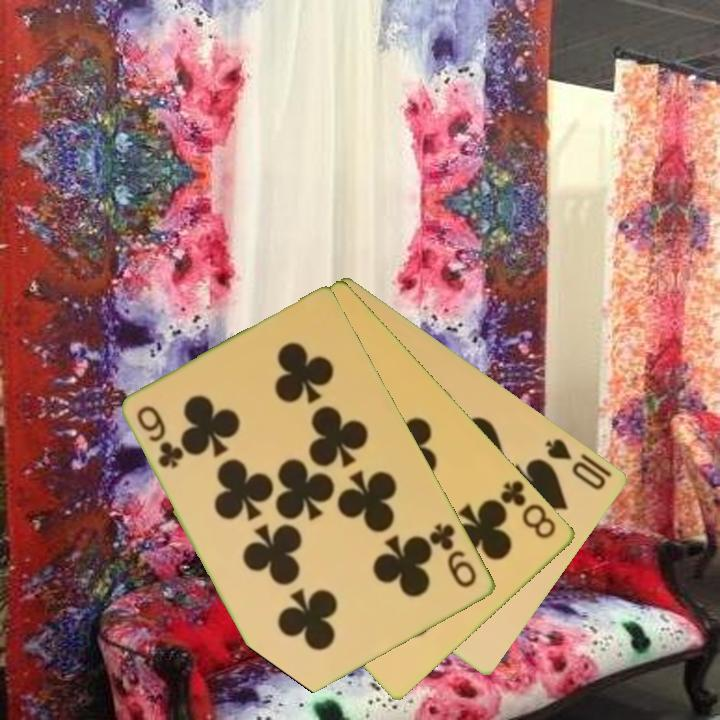10s: (542, 434, 610, 493)
8c: (497, 476, 560, 542)
9c: (426, 519, 480, 591), (133, 402, 186, 471)
